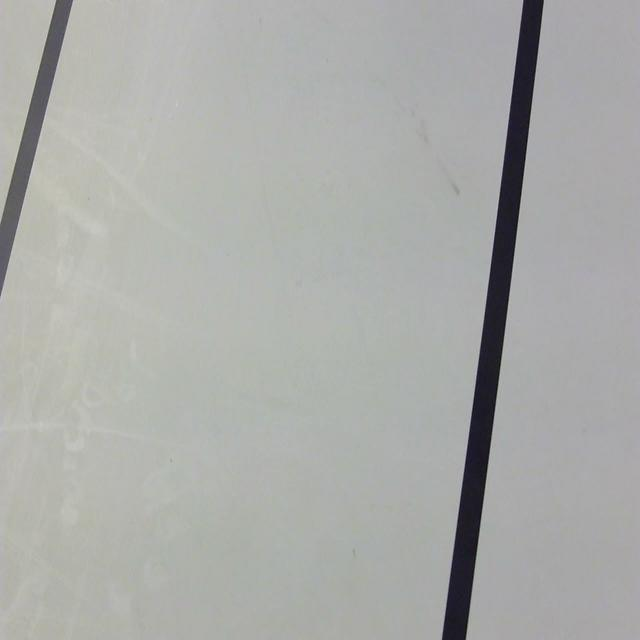tape: (418, 0, 562, 640)
